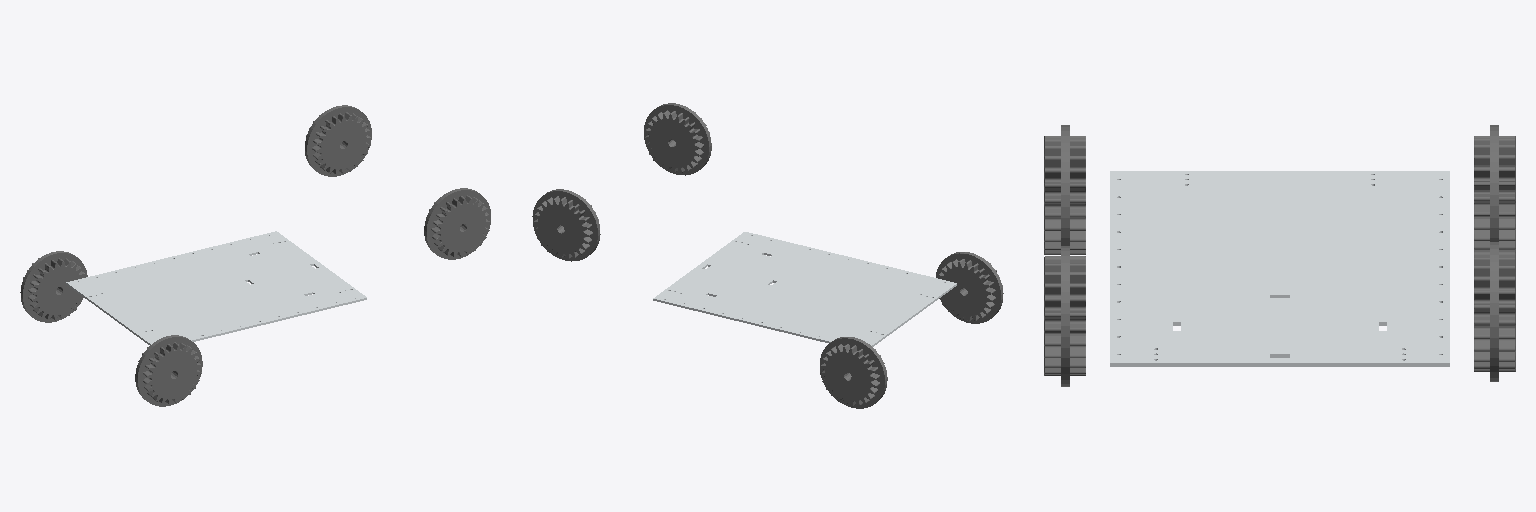
robot.urdf — drok3_description2:
<?xml version="1.0" encoding="utf-8"?>
<!-- This URDF was automatically created by SolidWorks to URDF Exporter! Originally created by [author] ([email redacted]) 
     Commit Version: 1.6.0-1-g15f4949  Build Version: 1.6.7594.29634
     For more information, please see http://wiki.ros.org/sw_urdf_exporter -->
<robot
  name="drok3_description2">
  <link
    name="base_footprint_link">
    <inertial>
      <origin
        xyz="-1.25317946727543E-05 0 0.113005302816333"
        rpy="0 0 0" />
      <mass
        value="3.02141422902365" />
      <inertia
        ixx="0.0423835325539121"
        ixy="-1.16406809588335E-16"
        ixz="3.76629582774629E-08"
        iyy="0.0758033294719559"
        iyz="2.81992537937316E-18"
        izz="0.118174283651174" />
    </inertial>
    <visual>
      <origin
        xyz="0 0 0"
        rpy="0 0 0" />
      <geometry>
        <mesh
          filename="package://drok3_description2/meshes/base_footprint_link.STL" />
      </geometry>
      <material
        name="">
        <color
          rgba="0.898039215686275 0.917647058823529 0.929411764705882 1" />
      </material>
    </visual>
    <collision>
      <origin
        xyz="0 0 0"
        rpy="0 0 0" />
      <geometry>
        <mesh
          filename="package://drok3_description2/meshes/base_footprint_link.STL" />
      </geometry>
    </collision>
  </link>
  <link
    name="base_link">
    <inertial>
      <origin
        xyz="0.0916307721495936 -0.000335907486689213 0.0569327313017182"
        rpy="0 0 0" />
      <mass
        value="38.3049580066646" />
      <inertia
        ixx="0.189675133128325"
        ixy="-6.87158011192175E-05"
        ixz="-0.111395385918992"
        iyy="0.808757796453613"
        iyz="-7.34722853353462E-05"
        izz="0.813726568476578" />
    </inertial>
    <visual>
      <origin
        xyz="0 0 0"
        rpy="0 0 0" />
      <geometry>
        <mesh
          filename="package://drok3_description2/meshes/base_link.STL" />
      </geometry>
      <material
        name="">
        <color
          rgba="0.298039215686275 0.298039215686275 0.298039215686275 1" />
      </material>
    </visual>
    <collision>
      <origin
        xyz="0 0 0"
        rpy="0 0 0" />
      <geometry>
        <mesh
          filename="package://drok3_description2/meshes/base_link.STL" />
      </geometry>
    </collision>
  </link>
  <joint
    name="base_link_joint"
    type="fixed">
    <origin
      xyz="0 0 0.1105"
      rpy="0 0 0" />
    <parent
      link="base_footprint_link" />
    <child
      link="base_link" />
    <axis
      xyz="0 0 0" />
  </joint>
  <link
    name="R1_link">
    <inertial>
      <origin
        xyz="-2.97278207574136E-06 0 -2.08206009358336E-06"
        rpy="0 0 0" />
      <mass
        value="0.697502716828587" />
      <inertia
        ixx="0.00107179989446096"
        ixy="-3.17556586931068E-18"
        ixz="-1.07013112858152E-08"
        iyy="0.00188983973588254"
        iyz="9.0339996868056E-19"
        izz="0.00107180767895577" />
    </inertial>
    <visual>
      <origin
        xyz="0 0 0"
        rpy="0 0 0" />
      <geometry>
        <mesh
          filename="package://drok3_description2/meshes/R1_link.STL" />
      </geometry>
      <material
        name="">
        <color
          rgba="0.498039215686275 0.498039215686275 0.498039215686275 1" />
      </material>
    </visual>
    <collision>
      <origin
        xyz="0 0 0"
        rpy="0 0 0" />
      <geometry>
        <mesh
          filename="package://drok3_description2/meshes/R1_link.STL" />
      </geometry>
    </collision>
  </link>
  <joint
    name="R1_link_joint"
    type="continuous">
    <origin
      xyz="-0.27424 -0.25972 -0.028"
      rpy="0 0 0" />
    <parent
      link="base_link" />
    <child
      link="R1_link" />
    <axis
      xyz="0 1 0" />
  </joint>
  <link
    name="R2_link">
    <inertial>
      <origin
        xyz="-3.60518028585943E-06 0 -4.18428738963028E-07"
        rpy="0 0 0" />
      <mass
        value="0.697502716828588" />
      <inertia
        ixx="0.00107179270224566"
        ixy="-3.20129434385429E-18"
        ixz="-2.60812953021254E-09"
        iyy="0.00188983973588254"
        iyz="9.59223116284526E-19"
        izz="0.00107181487117107" />
    </inertial>
    <visual>
      <origin
        xyz="0 0 0"
        rpy="0 0 0" />
      <geometry>
        <mesh
          filename="package://drok3_description2/meshes/R2_link.STL" />
      </geometry>
      <material
        name="">
        <color
          rgba="0.498039215686275 0.498039215686275 0.498039215686275 1" />
      </material>
    </visual>
    <collision>
      <origin
        xyz="0 0 0"
        rpy="0 0 0" />
      <geometry>
        <mesh
          filename="package://drok3_description2/meshes/R2_link.STL" />
      </geometry>
    </collision>
  </link>
  <joint
    name="R2_link_joint"
    type="continuous">
    <origin
      xyz="0.27576 -0.25972 -0.028"
      rpy="0 0 0" />
    <parent
      link="base_link" />
    <child
      link="R2_link" />
    <axis
      xyz="0 1 0" />
  </joint>
  <link
    name="R3_link">
    <inertial>
      <origin
        xyz="3.24700269704881E-06 -5.55111512312578E-17 1.62153661337205E-06"
        rpy="0 0 0" />
      <mass
        value="0.697502716828588" />
      <inertia
        ixx="0.00107179694558754"
        ixy="-3.07511556235849E-18"
        ixz="-9.10311589437715E-09"
        iyy="0.00188983973588254"
        iyz="7.7907126344076E-19"
        izz="0.00107181062782919" />
    </inertial>
    <visual>
      <origin
        xyz="0 0 0"
        rpy="0 0 0" />
      <geometry>
        <mesh
          filename="package://drok3_description2/meshes/R3_link.STL" />
      </geometry>
      <material
        name="">
        <color
          rgba="0.498039215686275 0.498039215686275 0.498039215686275 1" />
      </material>
    </visual>
    <collision>
      <origin
        xyz="0 0 0"
        rpy="0 0 0" />
      <geometry>
        <mesh
          filename="package://drok3_description2/meshes/R3_link.STL" />
      </geometry>
    </collision>
  </link>
  <joint
    name="R3_link_joint"
    type="continuous">
    <origin
      xyz="0.48054 -0.25972 0.16296"
      rpy="0 0 0" />
    <parent
      link="base_link" />
    <child
      link="R3_link" />
    <axis
      xyz="0 1 0" />
  </joint>
  <link
    name="L1_link">
    <inertial>
      <origin
        xyz="-3.60518028584556E-06 -1.11022302462516E-16 -4.18428738963028E-07"
        rpy="0 0 0" />
      <mass
        value="0.697502716828587" />
      <inertia
        ixx="0.00107179270224566"
        ixy="-3.16860373019229E-18"
        ixz="-2.6081295301747E-09"
        iyy="0.00188983973588254"
        iyz="7.92650267045416E-19"
        izz="0.00107181487117107" />
    </inertial>
    <visual>
      <origin
        xyz="0 0 0"
        rpy="0 0 0" />
      <geometry>
        <mesh
          filename="package://drok3_description2/meshes/L1_link.STL" />
      </geometry>
      <material
        name="">
        <color
          rgba="0.498039215686275 0.498039215686275 0.498039215686275 1" />
      </material>
    </visual>
    <collision>
      <origin
        xyz="0 0 0"
        rpy="0 0 0" />
      <geometry>
        <mesh
          filename="package://drok3_description2/meshes/L1_link.STL" />
      </geometry>
    </collision>
  </link>
  <joint
    name="L1_link_joint"
    type="continuous">
    <origin
      xyz="-0.27424 0.25972 -0.028"
      rpy="0 0 0" />
    <parent
      link="base_link" />
    <child
      link="L1_link" />
    <axis
      xyz="0 1 0" />
  </joint>
  <link
    name="L2_link">
    <inertial>
      <origin
        xyz="-3.60518028585943E-06 -1.11022302462516E-16 -4.1842873894915E-07"
        rpy="0 0 0" />
      <mass
        value="0.697502716828589" />
      <inertia
        ixx="0.00107179270224566"
        ixy="-3.18775432759348E-18"
        ixz="-2.6081295302701E-09"
        iyy="0.00188983973588254"
        iyz="8.03792722455923E-19"
        izz="0.00107181487117107" />
    </inertial>
    <visual>
      <origin
        xyz="0 0 0"
        rpy="0 0 0" />
      <geometry>
        <mesh
          filename="package://drok3_description2/meshes/L2_link.STL" />
      </geometry>
      <material
        name="">
        <color
          rgba="0.498039215686275 0.498039215686275 0.498039215686275 1" />
      </material>
    </visual>
    <collision>
      <origin
        xyz="0 0 0"
        rpy="0 0 0" />
      <geometry>
        <mesh
          filename="package://drok3_description2/meshes/L2_link.STL" />
      </geometry>
    </collision>
  </link>
  <joint
    name="L2_link_joint"
    type="continuous">
    <origin
      xyz="0.27576 0.25972 -0.028"
      rpy="0 0 0" />
    <parent
      link="base_link" />
    <child
      link="L2_link" />
    <axis
      xyz="0 1 0" />
  </joint>
  <link
    name="L3_link">
    <inertial>
      <origin
        xyz="-3.50122690040422E-06 -2.22044604925031E-16 9.55938123270439E-07"
        rpy="0 0 0" />
      <mass
        value="0.697502716828588" />
      <inertia
        ixx="0.00107179397947648"
        ixy="-3.27890477552922E-18"
        ixz="5.78669645348872E-09"
        iyy="0.00188983973588254"
        iyz="7.58660421249286E-19"
        izz="0.00107181359394025" />
    </inertial>
    <visual>
      <origin
        xyz="0 0 0"
        rpy="0 0 0" />
      <geometry>
        <mesh
          filename="package://drok3_description2/meshes/L3_link.STL" />
      </geometry>
      <material
        name="">
        <color
          rgba="0.498039215686275 0.498039215686275 0.498039215686275 1" />
      </material>
    </visual>
    <collision>
      <origin
        xyz="0 0 0"
        rpy="0 0 0" />
      <geometry>
        <mesh
          filename="package://drok3_description2/meshes/L3_link.STL" />
      </geometry>
    </collision>
  </link>
  <joint
    name="L3_link_joint"
    type="continuous">
    <origin
      xyz="0.46841 0.25972 0.16296"
      rpy="0 0 0" />
    <parent
      link="base_link" />
    <child
      link="L3_link" />
    <axis
      xyz="0 1 0" />
  </joint>

<gazebo>
  <plugin name="skid_steer_drive_controller" filename="libgazebo_ros_skid_steer_drive.so">
    <updateRate>100.0</updateRate>
    <robotNamespace>/</robotNamespace>
    <leftFrontJoint>L2_link_joint</leftFrontJoint>
    <rightFrontJoint>R2_link_joint</rightFrontJoint>
    <leftRearJoint>L1_link_joint</leftRearJoint>
    <rightRearJoint>R1_link_joint</rightRearJoint>
    <wheelSeparation>0.4</wheelSeparation>
    <wheelDiameter>0.215</wheelDiameter>
    <robotBaseFrame>base_link</robotBaseFrame>
    <torque>20</torque>
    <topicName>cmd_vel</topicName>
    <broadcastTF>false</broadcastTF>
  </plugin>
</gazebo>

</robot>

--- Render facts (derived) ---
3 views of the same robot in one strip: view 1: azimuth 30°, elevation 25°; view 2: azimuth 150°, elevation 25°; view 3: azimuth 270°, elevation 25° (orthographic).
Model drok3_description2 with 8 links and 7 joints (6 continuous, 1 fixed), rooted at base_footprint_link, posed all joints at 0.
Visible links, largest first — view 1: base_footprint_link, R1_link, L3_link, R3_link, L1_link; view 2: base_footprint_link, R3_link, L1_link, L3_link, R1_link; view 3: base_footprint_link, R3_link, L3_link, R1_link, L1_link.
Boxes of the visible links, left/top/right/bottom form: base_footprint_link: left=66, top=231, right=366, bottom=344; R1_link: left=135, top=335, right=202, bottom=406; L3_link: left=305, top=105, right=371, bottom=176; R3_link: left=424, top=188, right=490, bottom=259; L1_link: left=20, top=251, right=87, bottom=322; base_footprint_link: left=653, top=232, right=956, bottom=346; R3_link: left=644, top=103, right=711, bottom=175; L1_link: left=820, top=337, right=887, bottom=408; L3_link: left=532, top=189, right=600, bottom=261; R1_link: left=936, top=252, right=1003, bottom=323; base_footprint_link: left=1110, top=171, right=1449, bottom=366; R3_link: left=1044, top=246, right=1085, bottom=386; L3_link: left=1474, top=242, right=1515, bottom=381; R1_link: left=1044, top=125, right=1085, bottom=254; L1_link: left=1474, top=125, right=1515, bottom=252.
Bounding box of the posed robot: 0.9246 × 0.5694 × 0.3609 m (x, y, z).
5 mesh visuals loaded from 8 distinct referenced files (5 binary STL); not drawn: 3 (reference not matched to a file when rendering).
